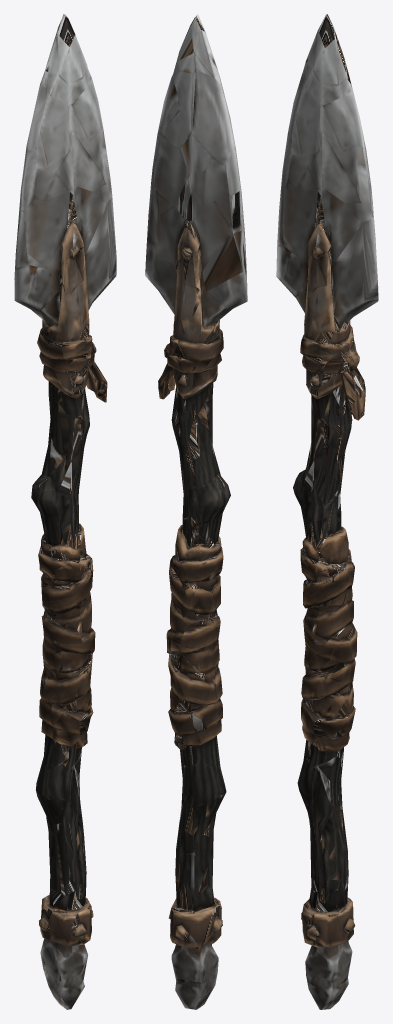
The model's file is spear.glb.
The picture shows the model from 3 angles, left to right: view 1: azimuth 30°, elevation 25°; view 2: azimuth 150°, elevation 25°; view 3: azimuth 330°, elevation 25°; orthographic projection.
Parts seen in each view (by area): view 1: Mesh_0; view 2: Mesh_0; view 3: Mesh_0.
Boxes of the visible parts, <box> form: Mesh_0: <box>14,14,116,1009</box>; Mesh_0: <box>145,14,247,1009</box>; Mesh_0: <box>276,14,378,1009</box>.
Bounding box in the file's own units: 0.1936 × 1.8 × 0.1033.
1 material, 1 textured.
